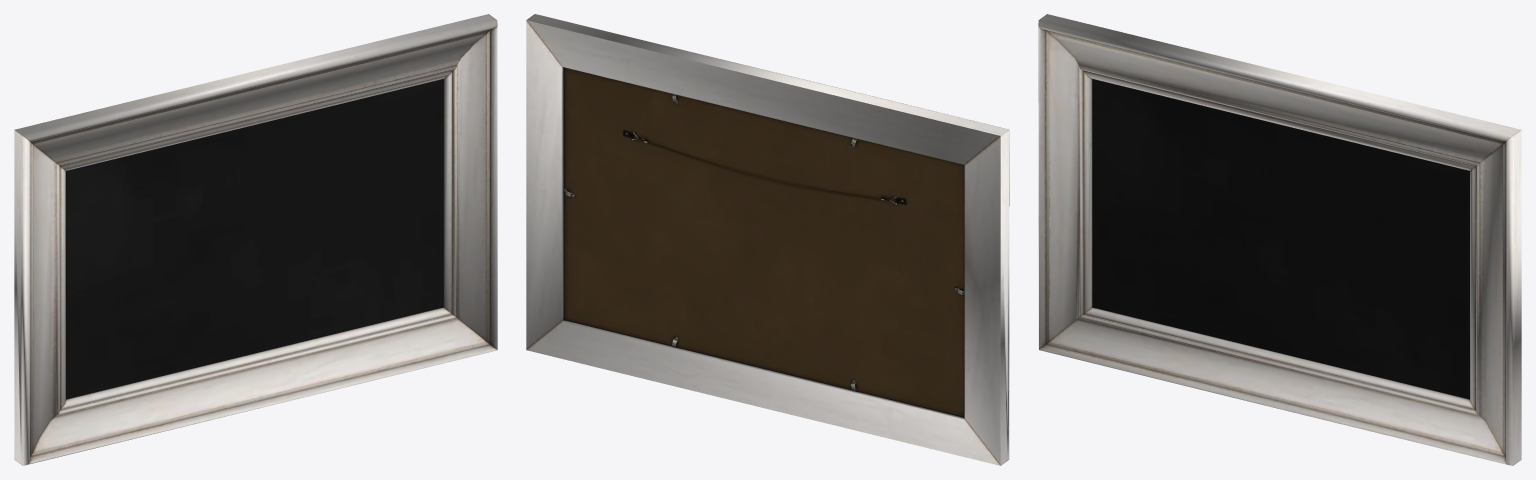
The model's file is hanging_picture_frame_02.glb.
The picture shows the model from 3 angles, left to right: view 1: azimuth 30°, elevation 25°; view 2: azimuth 150°, elevation 25°; view 3: azimuth 330°, elevation 25°; orthographic projection.
Parts seen in each view (by area): view 1: hanging_picture_frame_02; view 2: hanging_picture_frame_02; view 3: hanging_picture_frame_02.
Boxes of the visible parts, box(x1,y1,x2,y2) form: hanging_picture_frame_02: box(14, 14, 497, 465); hanging_picture_frame_02: box(526, 14, 1009, 465); hanging_picture_frame_02: box(1038, 14, 1521, 465).
Size of the model in its own units: 0.7512 by 0.4988 by 0.0322.
3 materials, 3 textured.
